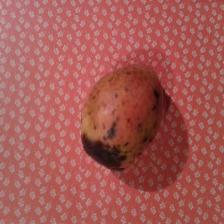Mango Semirotten: (82, 62, 167, 171)
